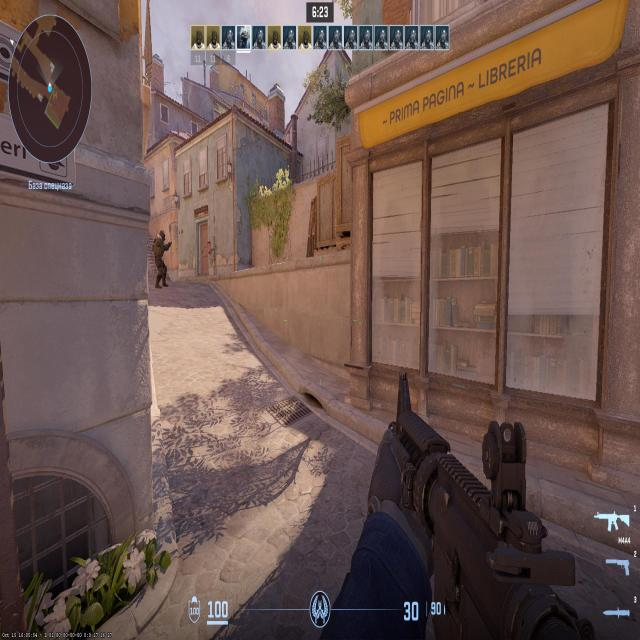CT: (154, 231, 168, 285)
CT_heat: (160, 230, 165, 245)
